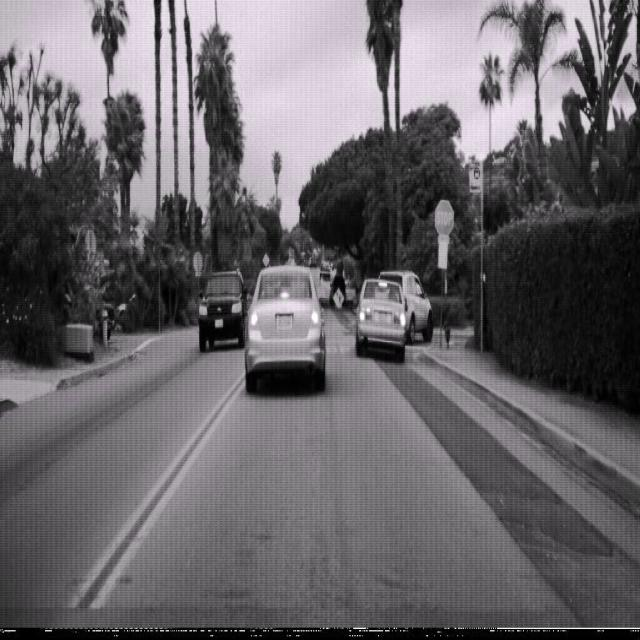stop_sign: (434, 198, 454, 238)
